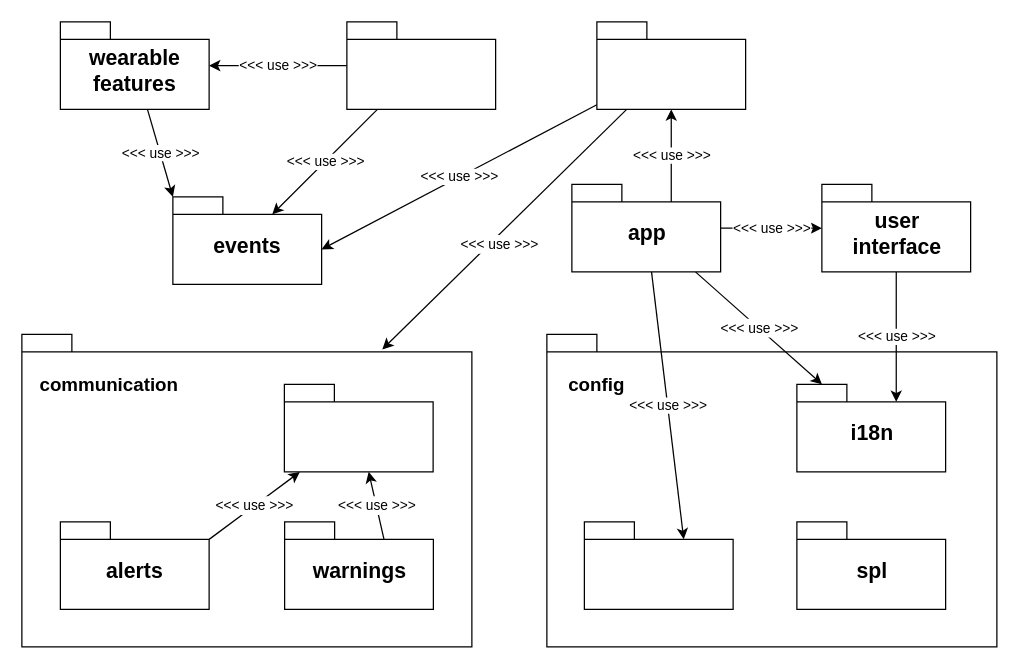
This 1019x669 diagram has some shape labels left out. The box of each missing label's shape, as (x1, y1, x2, y2) in pixels:
aspects: (583, 521, 733, 609)
contacts: (283, 383, 433, 472)
controller: (596, 21, 746, 109)
devices: (346, 21, 496, 109)
